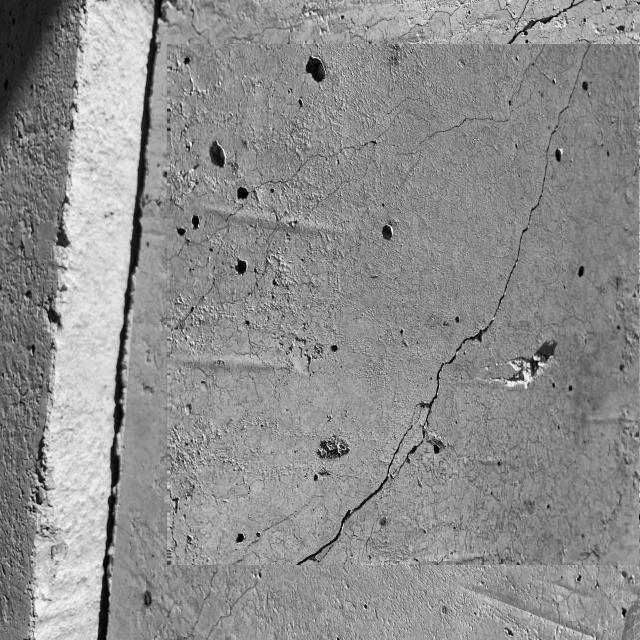diagonal crack: (280, 55, 606, 569), (482, 0, 609, 59)
vertical crack: (88, 4, 187, 640)
